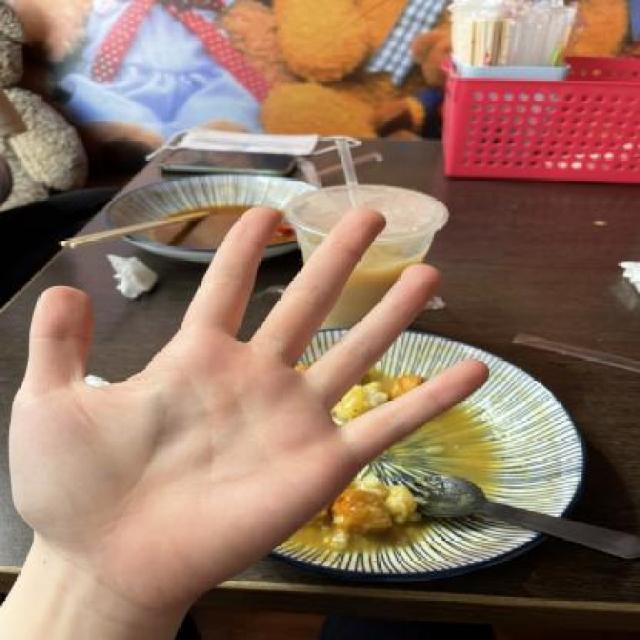Hand: (0, 196, 495, 588)
